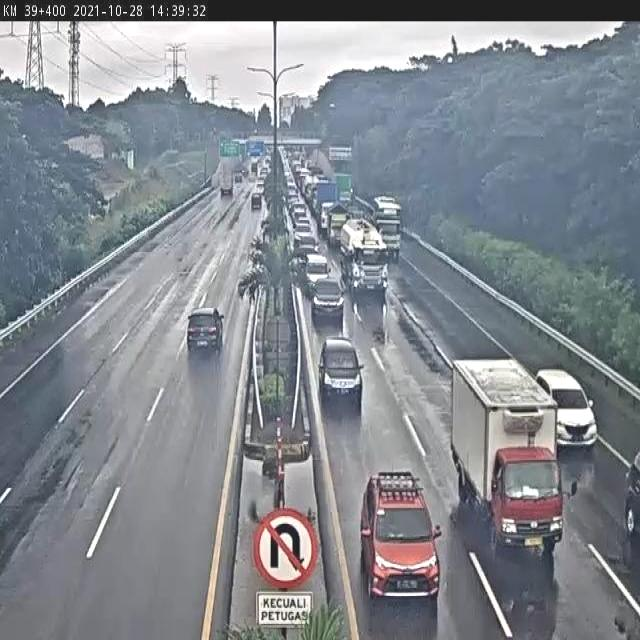Car: (356, 464, 444, 615), (535, 368, 597, 449), (317, 336, 365, 410), (301, 274, 344, 326), (185, 306, 224, 358)
Truck: (444, 346, 574, 564), (332, 212, 388, 306), (372, 189, 411, 261)
